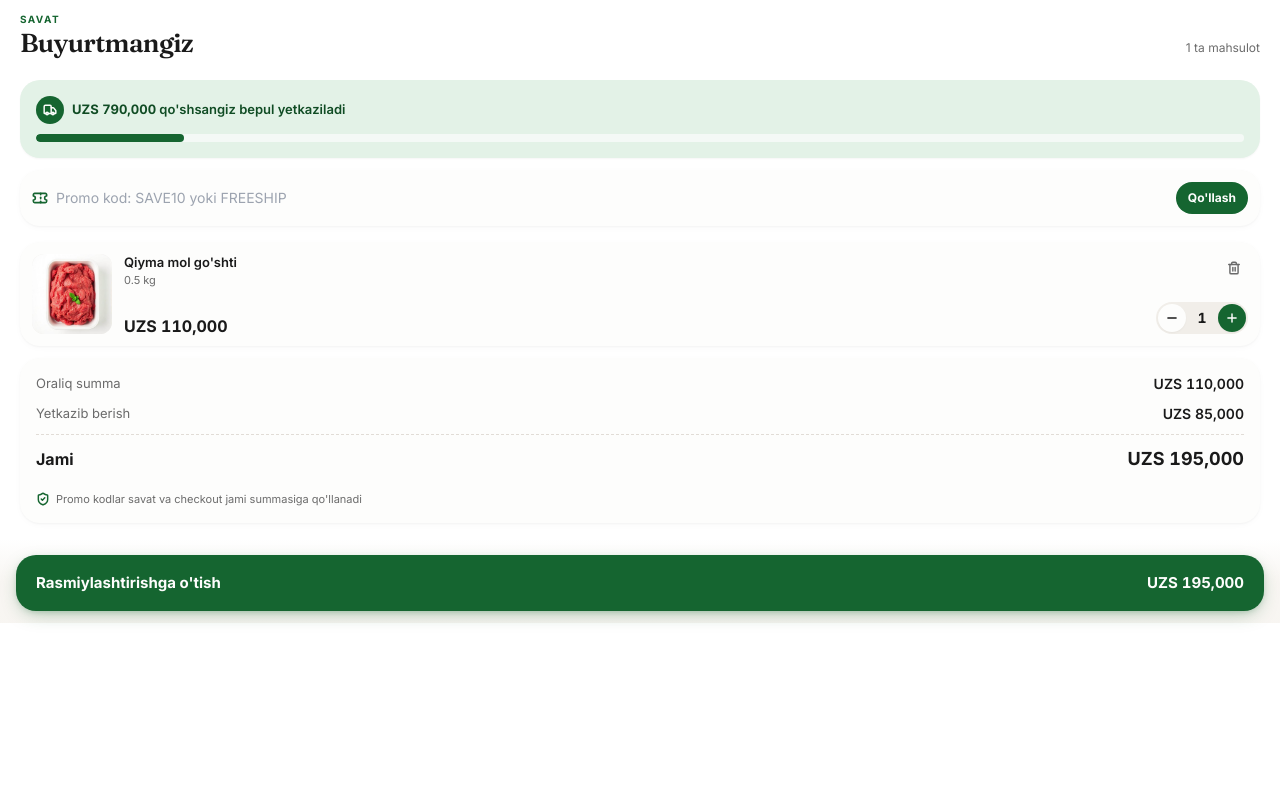
Scenario: mini app state flows › updates cart quantity and removes items from the cart screen
The width and height of the screenshot is (1280, 800).
Click the button named "Ko'paytirish" at point(1232, 318), box [1218,304,1246,332]
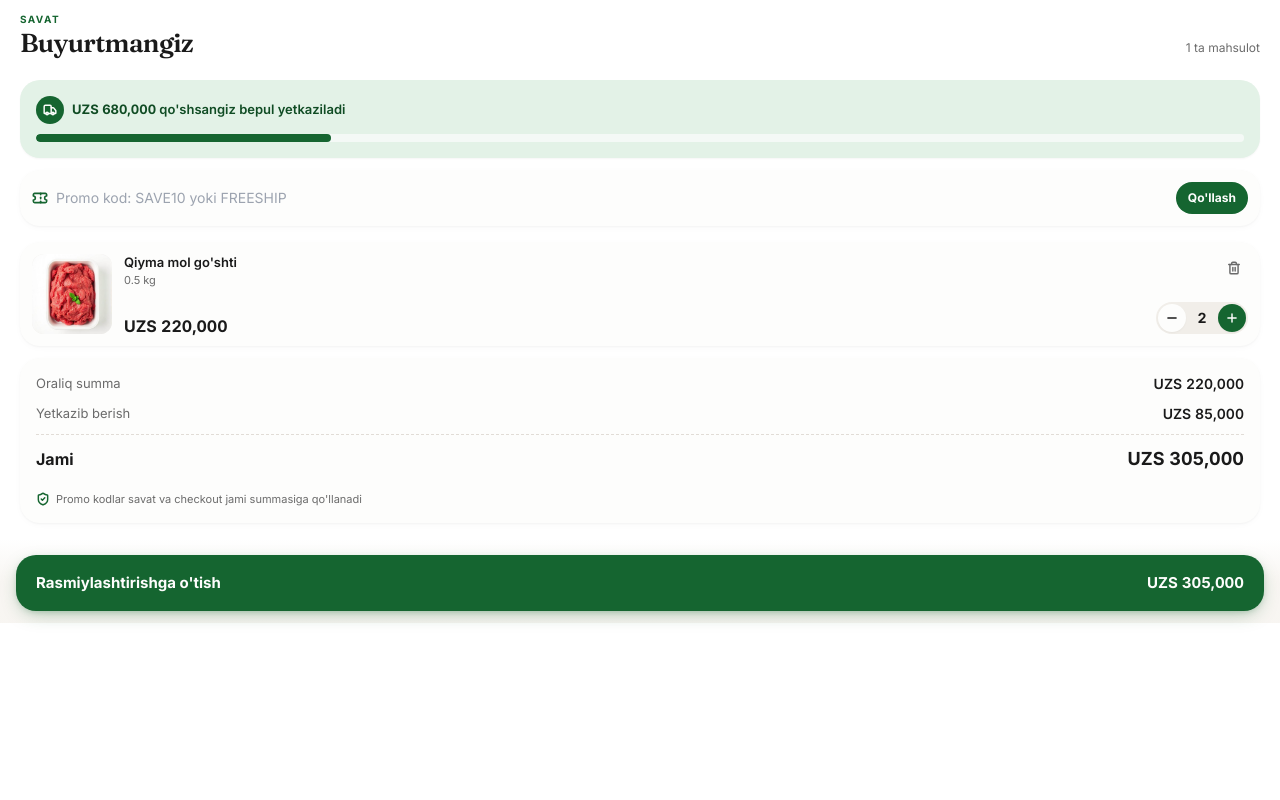
Click the button named "Olib tashlash" at point(1234, 268), box [1220,254,1248,282]
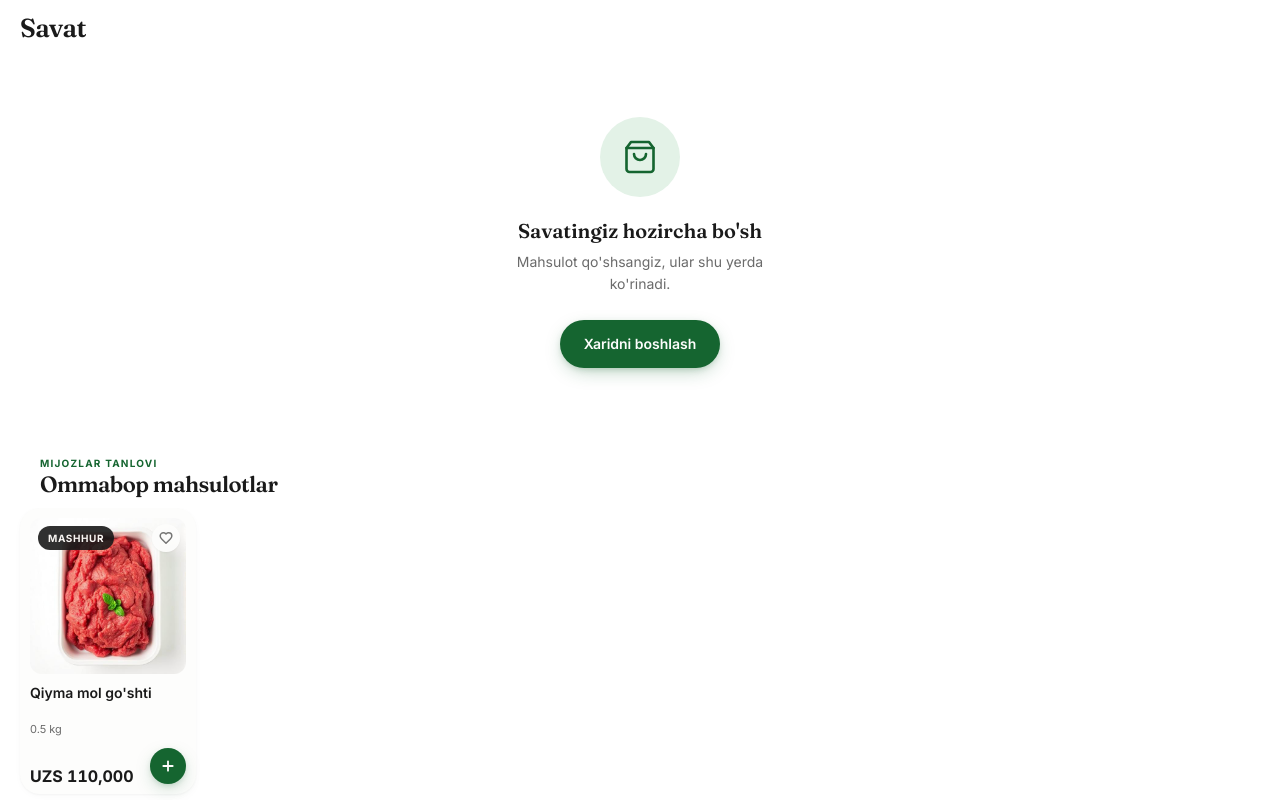
Expected: the heading "Savatingiz hozircha bo'sh" is shown, [518,216,762,244]
